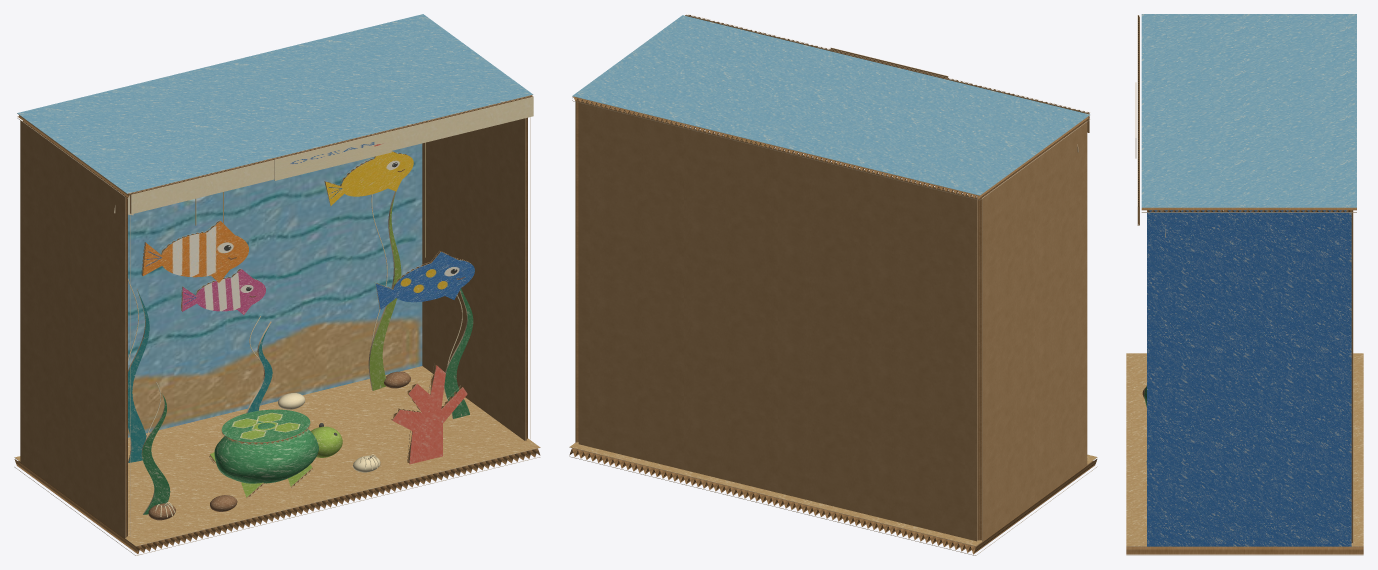
File: 09_shoebox_aquarium.glb
3 views of the same model, side by side, from view 1: azimuth 30°, elevation 25°; view 2: azimuth 150°, elevation 25°; view 3: azimuth 270°, elevation 25° (orthographic). The views are drawn at different scales.
Parts seen in each view (by area): view 1: artwork_09_shoebox_aquarium, kraft, sky, sand, flute, cream, green, edge, coral, lime, teal, brown; view 2: kraft, sky, flute, edge, sand; view 3: blue, sky, sand, flute, edge.
Part boxes in pixels (x1,y1,x2,y2): artwork_09_shoebox_aquarium: [128, 131, 474, 442]; kraft: [20, 118, 524, 538]; sky: [17, 14, 532, 193]; sand: [15, 366, 539, 545]; flute: [14, 95, 540, 554]; cream: [128, 97, 533, 517]; green: [142, 288, 473, 514]; edge: [14, 94, 540, 555]; coral: [392, 365, 467, 464]; lime: [210, 194, 401, 497]; teal: [128, 290, 272, 462]; brown: [148, 371, 410, 520]; kraft: [578, 15, 1089, 541]; sky: [572, 15, 1089, 195]; flute: [569, 15, 1097, 554]; edge: [569, 14, 1097, 555]; sand: [570, 442, 1096, 545]; blue: [1147, 210, 1351, 546]; sky: [1141, 14, 1356, 207]; sand: [1126, 353, 1363, 546]; flute: [1126, 15, 1363, 554]; edge: [1126, 15, 1363, 555].
Size of the model in its own units: 0.5239 by 0.439 by 0.27.
17 materials, 15 textured.
